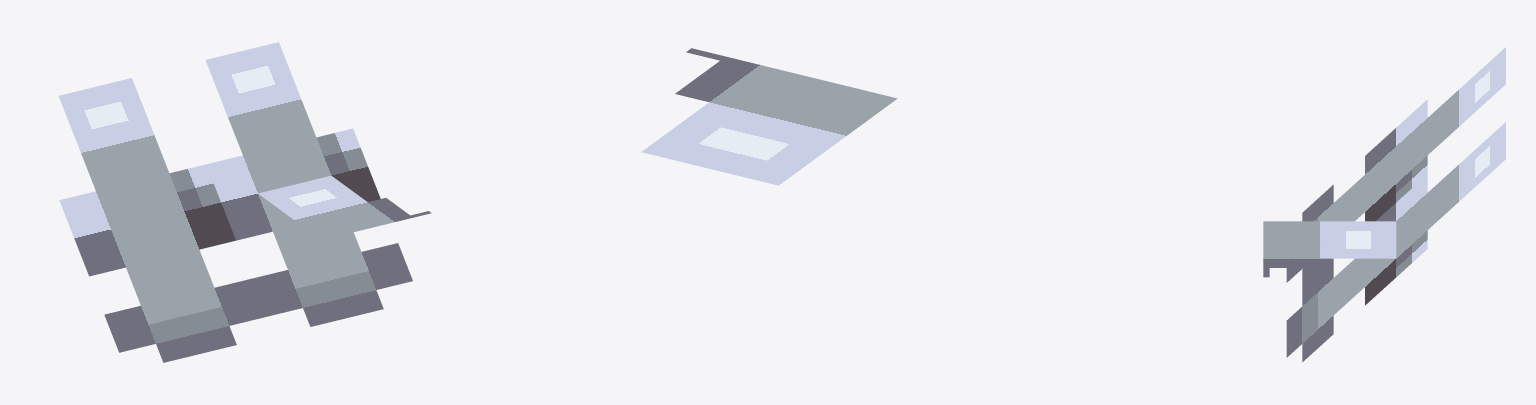
3 views of the same model, side by side, from view 1: azimuth 30°, elevation 25°; view 2: azimuth 150°, elevation 25°; view 3: azimuth 270°, elevation 25° (orthographic). The views are drawn at different scales.
Size of the model in its own units: 1 by 0.707 by 0.7285.
Materials: 1 (1 with a texture image).
